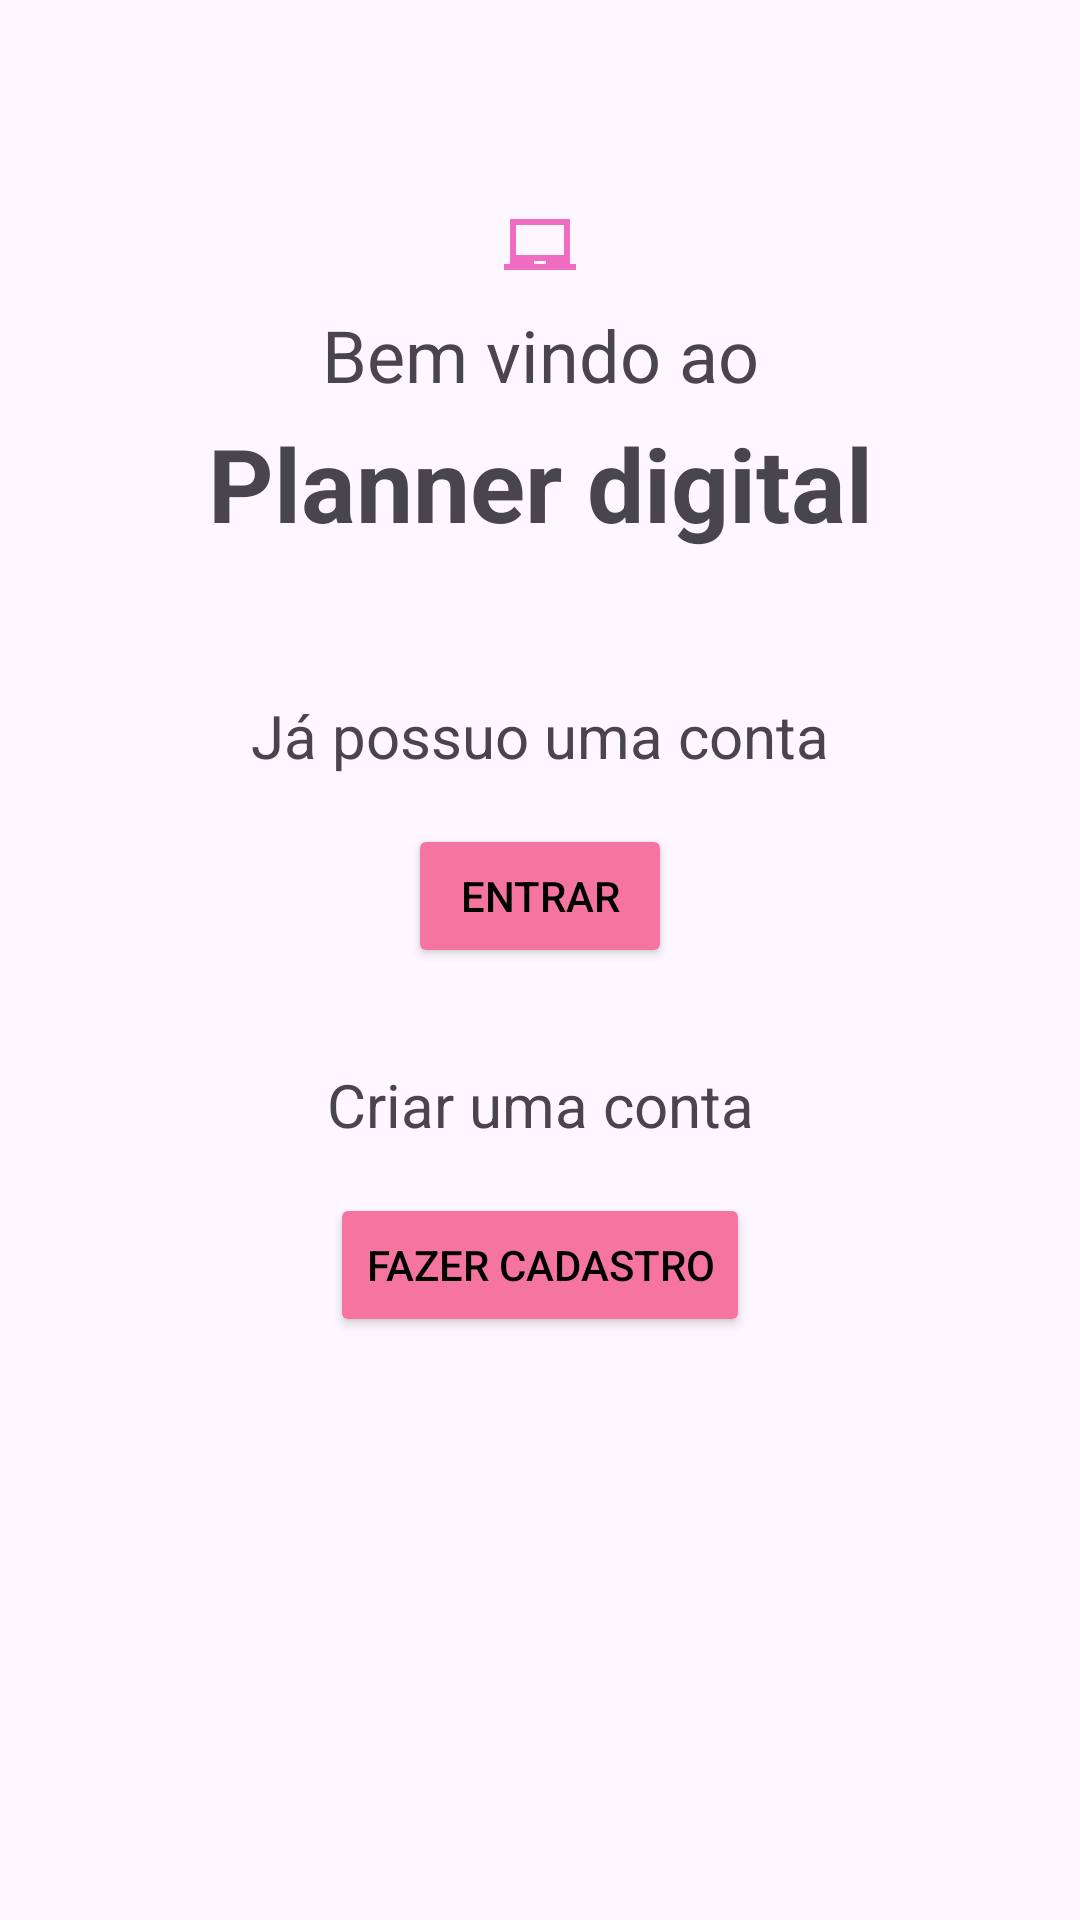

Screen size 1080 × 1920. Icon name, then its center in pixels as (x=x, y=y):
laptop chromebook: (x=540, y=244)
